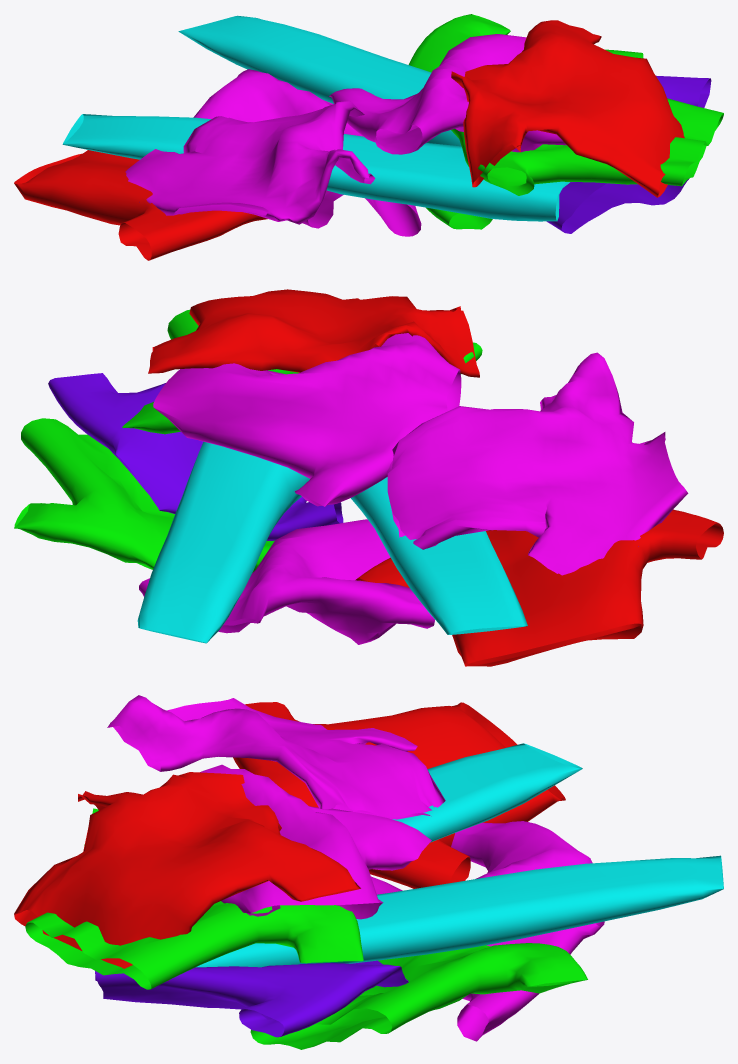
File: Platform 6.fbx
The picture shows the model from 3 angles, top to bottom: view 1: azimuth 30°, elevation 25°; view 2: azimuth 150°, elevation 25°; view 3: azimuth 270°, elevation 25°; orthographic projection. The views are drawn at different scales.
Parts seen in each view (by area): view 1: Depth_2, Second_platform; view 2: Depth_2, Second_platform; view 3: Depth_2, Second_platform.
Boxes of the visible parts, bbox=[...] form: Depth_2: bbox=[125, 20, 723, 224]; Second_platform: bbox=[14, 14, 711, 260]; Depth_2: bbox=[122, 289, 688, 575]; Second_platform: bbox=[14, 373, 723, 666]; Depth_2: bbox=[14, 695, 445, 989]; Second_platform: bbox=[95, 702, 723, 1049].
Size of the model in its own units: 5.23 by 1.6 by 4.64.
